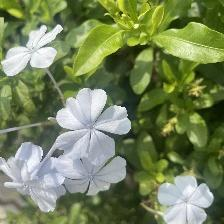chitrak: (56, 88, 131, 161), (4, 142, 69, 218), (1, 22, 66, 78), (159, 169, 215, 224), (66, 154, 129, 198)
